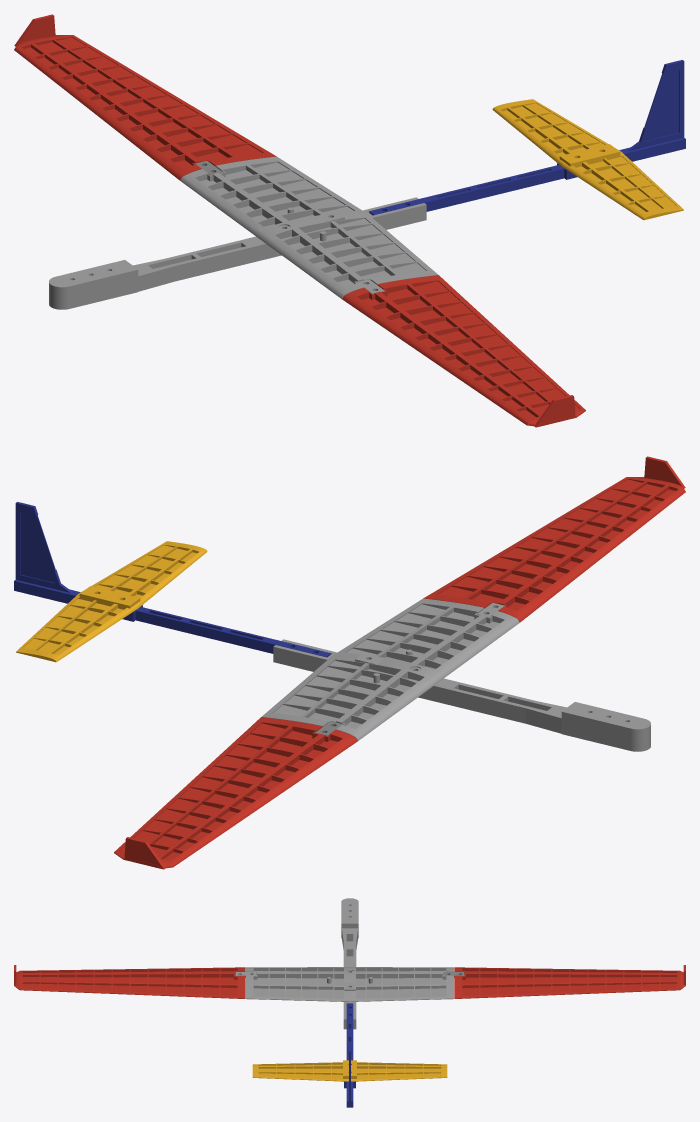
The model's file is assembly.glb.
3 renders of one model, top to bottom at view 1: azimuth 30°, elevation 25°; view 2: azimuth 150°, elevation 25°; view 3: azimuth 270°, elevation 25°, orthographic. The views are drawn at different scales.
Parts seen in each view (by area): view 1: Valkyrie580_100g_Assembled (×4); view 2: Valkyrie580_100g_Assembled (×4); view 3: Valkyrie580_100g_Assembled (×4).
Part boxes in pixels (left/top/right/bottom): Valkyrie580_100g_Assembled (×4): left=14, top=14, right=685, bottom=427; Valkyrie580_100g_Assembled (×4): left=14, top=456, right=685, bottom=869; Valkyrie580_100g_Assembled (×4): left=14, top=898, right=685, bottom=1107.
Size of the model in its own units: 0.406 by 0.0565 by 0.58.
